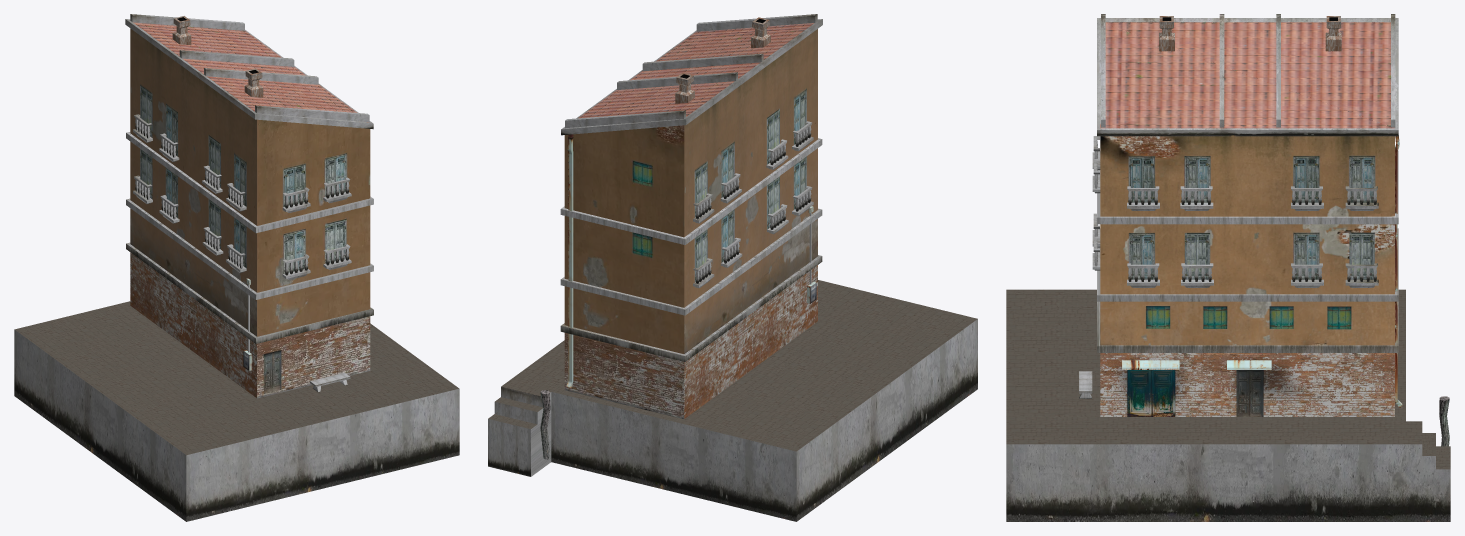
Rendered from BLD_AquHouseB.glb.
3 renders of one model, left to right at view 1: azimuth 30°, elevation 25°; view 2: azimuth 150°, elevation 25°; view 3: azimuth 270°, elevation 25°, orthographic. The views are drawn at different scales.
Visible parts, largest first — view 1: polySurface107_lambert13_0, polySurface120_lambert27_0, polySurface107_lambert29_0, polySurface120_lambert15_0, polySurface4_lambert21_0, polySurface1_lambert25_0, polySurface120_lambert14_0, polySurface92_lambert32_0; view 2: polySurface107_lambert13_0, polySurface120_lambert27_0, polySurface120_lambert16_0, polySurface107_lambert29_0, polySurface4_lambert21_0, polySurface120_lambert14_0, polySurface1_lambert25_0, polySurface96_lambert17_0, polySurface107_lambert30_0, polySurface92_lambert32_0, polySurface160_lambert35_0; view 3: polySurface120_lambert8_0, polySurface107_lambert13_0, polySurface120_lambert14_0, polySurface107_lambert29_0, polySurface4_lambert21_0, polySurface1_lambert25_0, polySurface107_lambert30_0, polySurface79_lambert23_0, polySurface92_lambert32_0, polySurface96_lambert17_0.
Part boxes in pixels (x1,y1,x2,y2): polySurface107_lambert13_0: [14, 329, 459, 521]; polySurface120_lambert27_0: [130, 28, 256, 397]; polySurface107_lambert29_0: [15, 301, 458, 455]; polySurface120_lambert15_0: [257, 119, 370, 398]; polySurface4_lambert21_0: [125, 19, 373, 343]; polySurface1_lambert25_0: [130, 14, 369, 392]; polySurface120_lambert14_0: [133, 22, 368, 122]; polySurface92_lambert32_0: [172, 18, 263, 97]; polySurface107_lambert13_0: [488, 319, 977, 521]; polySurface120_lambert27_0: [684, 29, 817, 418]; polySurface120_lambert16_0: [564, 125, 684, 419]; polySurface107_lambert29_0: [509, 280, 977, 451]; polySurface4_lambert21_0: [560, 19, 822, 361]; polySurface120_lambert14_0: [578, 23, 813, 118]; polySurface1_lambert25_0: [565, 14, 817, 288]; polySurface96_lambert17_0: [566, 134, 816, 388]; polySurface107_lambert30_0: [488, 381, 550, 429]; polySurface92_lambert32_0: [675, 20, 770, 103]; polySurface160_lambert35_0: [540, 390, 550, 459]; polySurface120_lambert8_0: [1100, 136, 1394, 416]; polySurface107_lambert13_0: [1006, 444, 1450, 521]; polySurface120_lambert14_0: [1100, 22, 1394, 128]; polySurface107_lambert29_0: [1006, 289, 1405, 444]; polySurface4_lambert21_0: [1094, 18, 1398, 352]; polySurface1_lambert25_0: [1079, 14, 1395, 398]; polySurface107_lambert30_0: [1406, 421, 1450, 469]; polySurface79_lambert23_0: [1122, 360, 1271, 369]; polySurface92_lambert32_0: [1159, 22, 1341, 51]; polySurface96_lambert17_0: [1395, 135, 1402, 407].
Bounding box in the file's own units: 15.23 × 19.51 × 18.46.
Materials: 18 (16 with a texture image).
